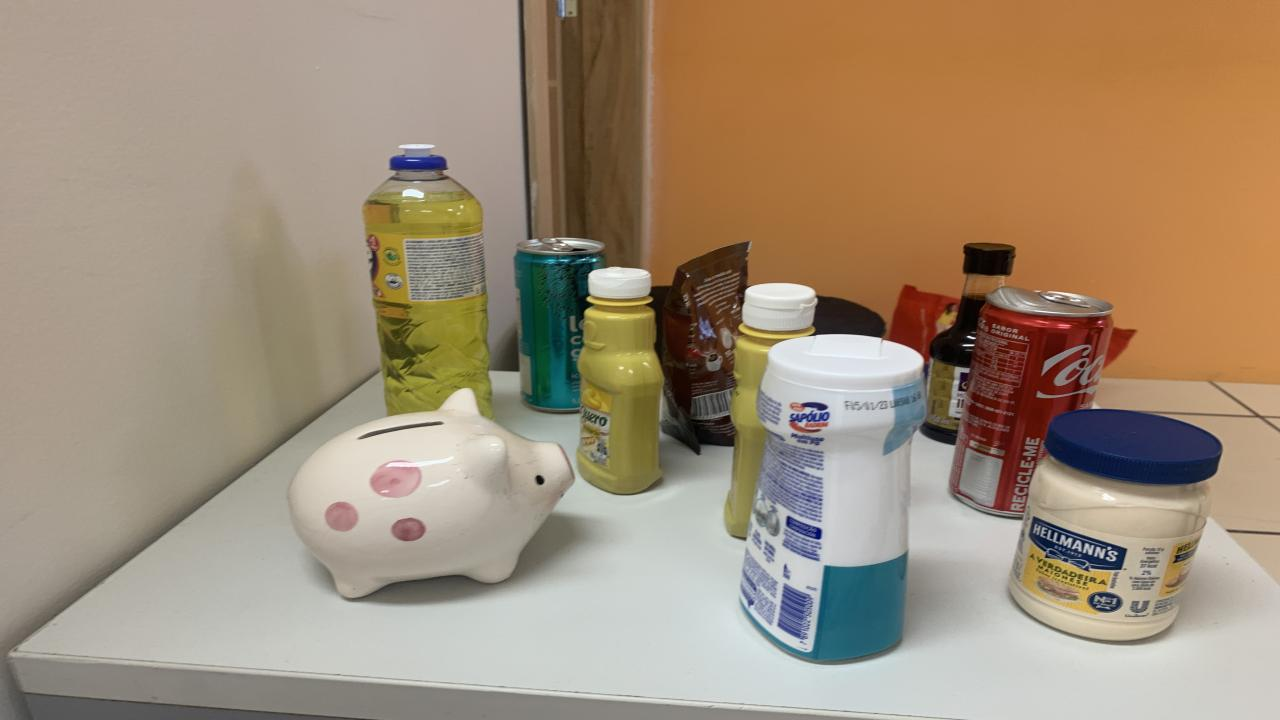Cleaner-Cleanup_Items: (740, 334, 925, 660)
Coffee-Pantry_Items: (650, 242, 750, 452)
Coke-Drinks: (950, 287, 1112, 516)
Detergent-Cleanup_Items: (362, 144, 492, 418)
English_Sauce-Pantry_Items: (922, 244, 1015, 444)
Mayonnaise-Pantry_Items: (1010, 409, 1222, 639)
Mustard-Pantry_Items: (725, 283, 818, 538), (578, 266, 662, 495)
Pig_Safe-Miscellaneous: (288, 388, 575, 598)
Tea-Drinks: (515, 236, 605, 412)
